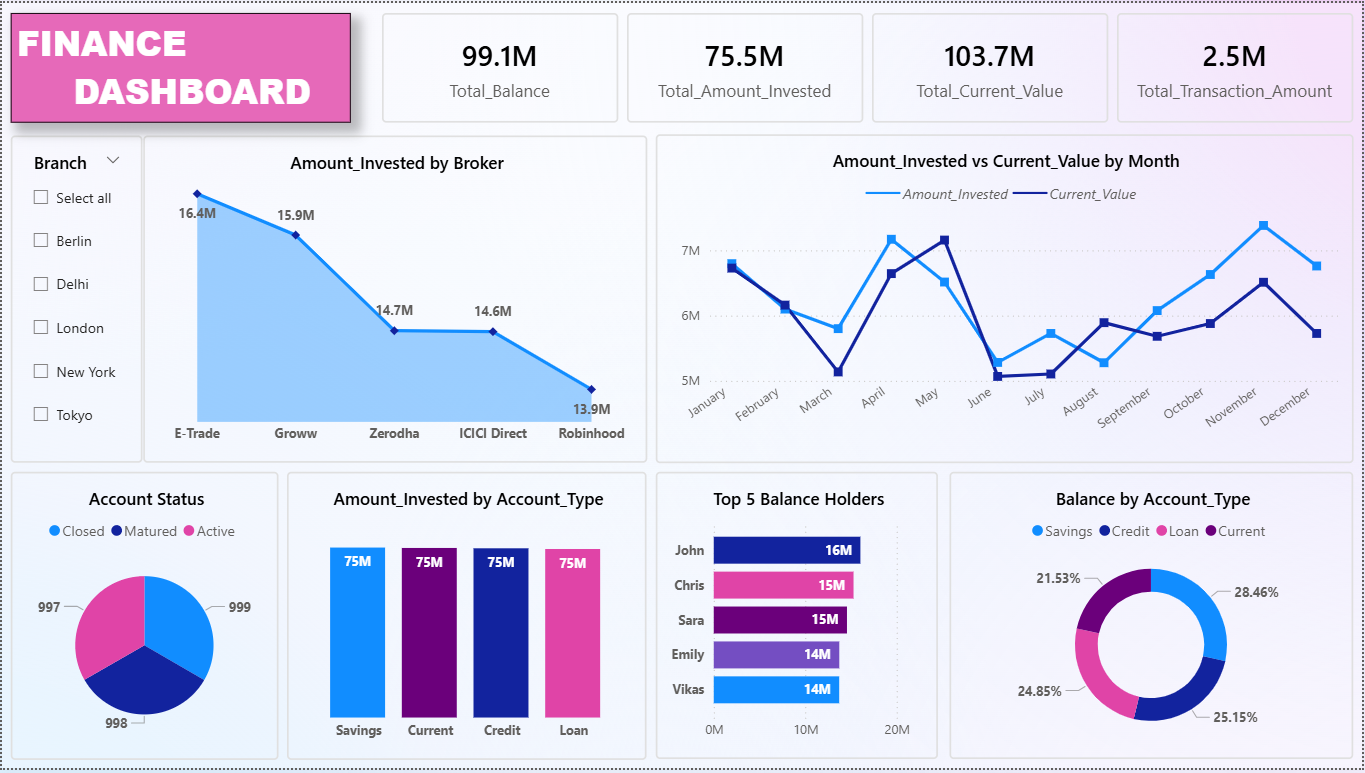

What the dashboard file says about the page in this screenshot:
{"tool":"powerbi","page":{"name":"Page 1","canvas":[1280,720],"ordinal":0},"visuals":[{"type":"donutChart","title":"Balance by Account_Type","fields":{"Category":["Accounts.Account_Type"],"Y":["Accounts.Balance"]},"box":[891.8,441.2,380,270.6],"z":0},{"type":"lineChart","title":"Amount_Invested vs Current_Value by Month","fields":{"Category":["Investments.Investment_Date.Variation.Date Hierarchy.Month"],"Y":["Investments.Amount_Invested"],"Y2":["Investments.Current_Value"]},"box":[615.3,123.5,656.5,309.4],"z":1000},{"type":"clusteredBarChart","title":"Top 5 Balance Holders","fields":{"Category":["Accounts.Customer_Name"],"Y":["Accounts.Balance"]},"box":[615.3,441.2,265.9,270.6],"z":2000},{"type":"clusteredColumnChart","fields":{"Category":["Accounts.Account_Type"],"Y":["Investments.Amount_Invested"]},"box":[268.6,440.7,338.4,270.9],"z":3000},{"type":"areaChart","fields":{"Category":["Investments.Broker"],"Y":["Investments.Amount_Invested"]},"box":[132.6,124.4,474.4,308.1],"z":4000},{"type":"pieChart","title":"Account Status","fields":{"Category":["Investments.Status"],"Y":["Accounts.Account_ID"]},"box":[8.3,441.7,252.4,271.4],"z":5000},{"type":"slicer","fields":{"Values":["Accounts.Branch"]},"box":[8.3,125,123.8,308.3],"z":6000},{"type":"card","fields":{"Values":["Accounts.Total_Balance"]},"box":[357.6,9.4,222.4,103.5],"z":7000},{"type":"card","fields":{"Values":["Investments.Total_Amount_Invested"]},"box":[588.2,9.4,222.4,103.5],"z":8000},{"type":"card","fields":{"Values":["Investments.Total_Current_Value"]},"box":[818.8,9.4,222.4,103.5],"z":9000},{"type":"card","fields":{"Values":["Transactions.Total_Transaction"]},"box":[1049.4,9.4,222.4,103.5],"z":10000},{"type":"textbox","box":[8.3,9.5,320.2,103.6],"z":11001}]}

Visuals, with their boxes in screenshot pixels (x1, y1, x2, y2), scaled from the page's 1280x720 canvas onto the 1365x773 screenshot:
"Balance by Account_Type" donutChart: <region>951, 474, 1356, 764</region>
"Amount_Invested vs Current_Value by Month" lineChart: <region>656, 133, 1356, 465</region>
"Top 5 Balance Holders" clusteredBarChart: <region>656, 474, 940, 764</region>
clusteredColumnChart - Accounts.Account_Type x Investments.Amount_Invested: <region>286, 473, 647, 764</region>
areaChart - Investments.Broker x Investments.Amount_Invested: <region>141, 134, 647, 464</region>
"Account Status" pieChart: <region>9, 474, 278, 766</region>
slicer - Accounts.Branch: <region>9, 134, 141, 465</region>
card - Accounts.Total_Balance: <region>381, 10, 619, 121</region>
card - Investments.Total_Amount_Invested: <region>627, 10, 864, 121</region>
card - Investments.Total_Current_Value: <region>873, 10, 1110, 121</region>
card - Transactions.Total_Transaction: <region>1119, 10, 1356, 121</region>
textbox: <region>9, 10, 350, 121</region>
